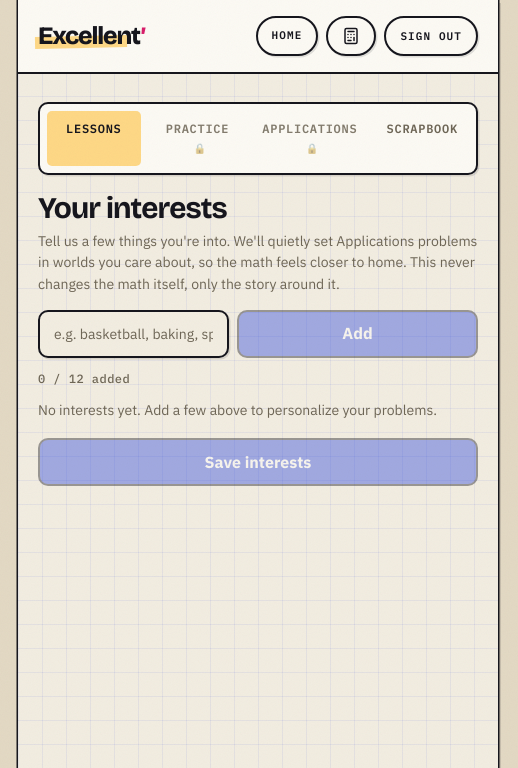
Test: InterestsPage › shows a retry message and does not add when the check errors
Type "basketball" into the field named "add an interest" at (134, 334), box [38, 310, 229, 358]
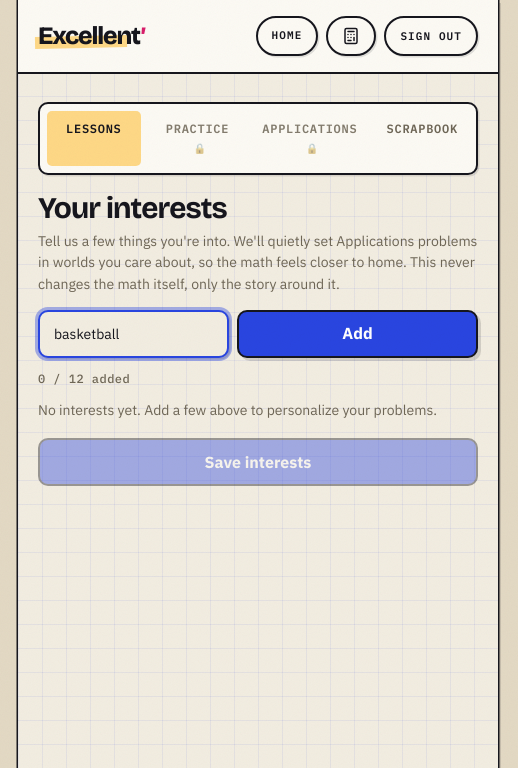
Click the button "Add" at (358, 334), box [237, 310, 478, 358]
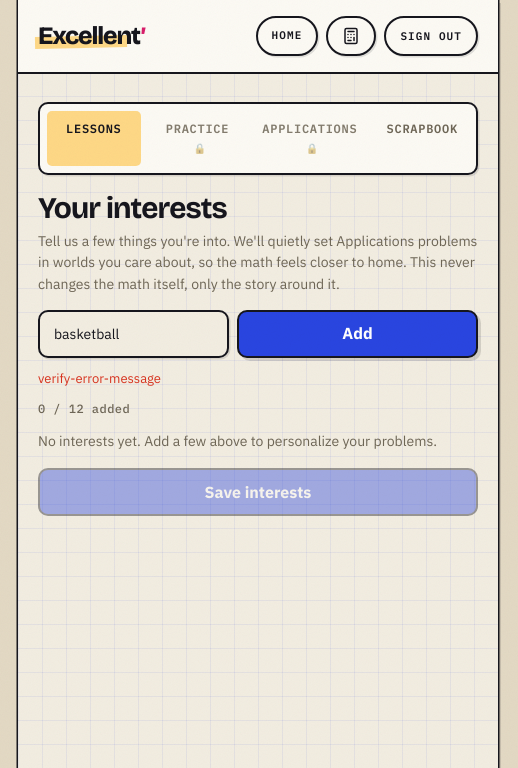
Expected: the message reads "verify-error-message", [38, 370, 161, 387]
